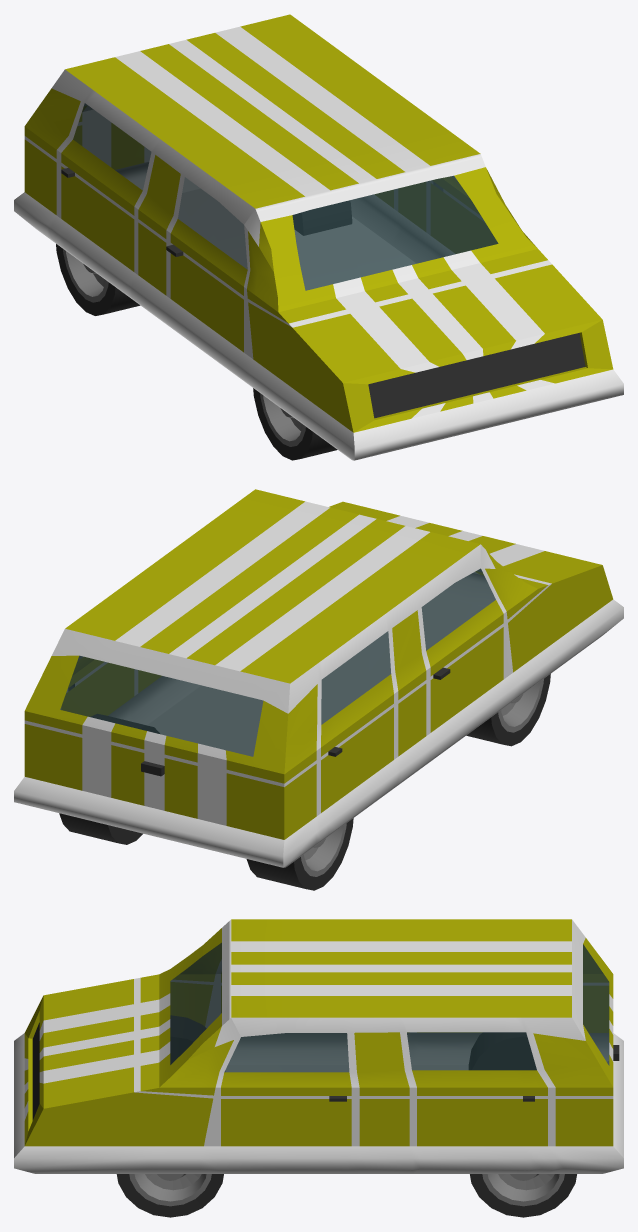
Rendered from Car1.fbx.
3 views of the same model, one above another, from view 1: azimuth 30°, elevation 25°; view 2: azimuth 150°, elevation 25°; view 3: azimuth 270°, elevation 25° (orthographic). The views are drawn at different scales.
Visible parts, largest first — view 1: Ambulance_Wheel_LeftBack5; view 2: Ambulance_Wheel_LeftBack5; view 3: Ambulance_Wheel_LeftBack5.
Part boxes in pixels (x1,y1,x2,y2): Ambulance_Wheel_LeftBack5: (14, 14, 623, 460); Ambulance_Wheel_LeftBack5: (14, 489, 623, 890); Ambulance_Wheel_LeftBack5: (14, 919, 623, 1217).
Bounding box in the file's own units: 19.78 × 15.31 × 42.76.
